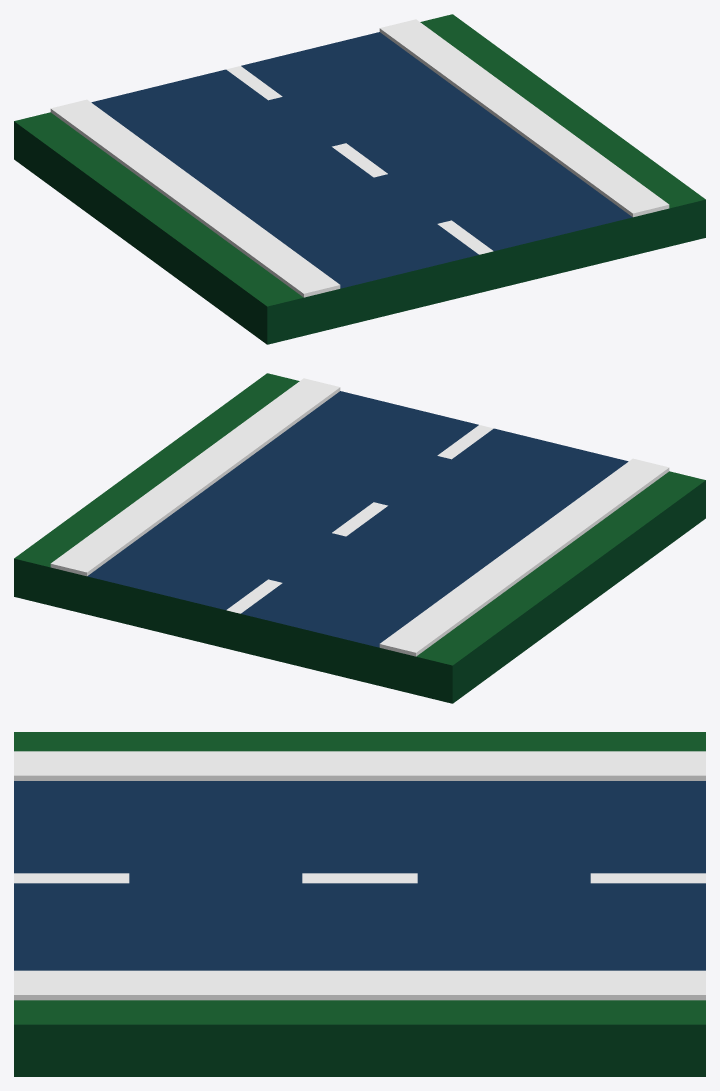
Rendered from road - Straight.glb.
3 renders of one model, top to bottom at view 1: azimuth 30°, elevation 25°; view 2: azimuth 150°, elevation 25°; view 3: azimuth 270°, elevation 25°, orthographic. The views are drawn at different scales.
Parts seen in each view (by area): view 1: straightroad; view 2: straightroad; view 3: straightroad.
Boxes of the visible parts, box(x1,y1,x2,y2) form: straightroad: box(14, 14, 705, 344); straightroad: box(14, 373, 705, 703); straightroad: box(14, 732, 705, 1076).
Size of the model in its own units: 12 by 1.1 by 12.
Materials: 1 (1 with a texture image).
